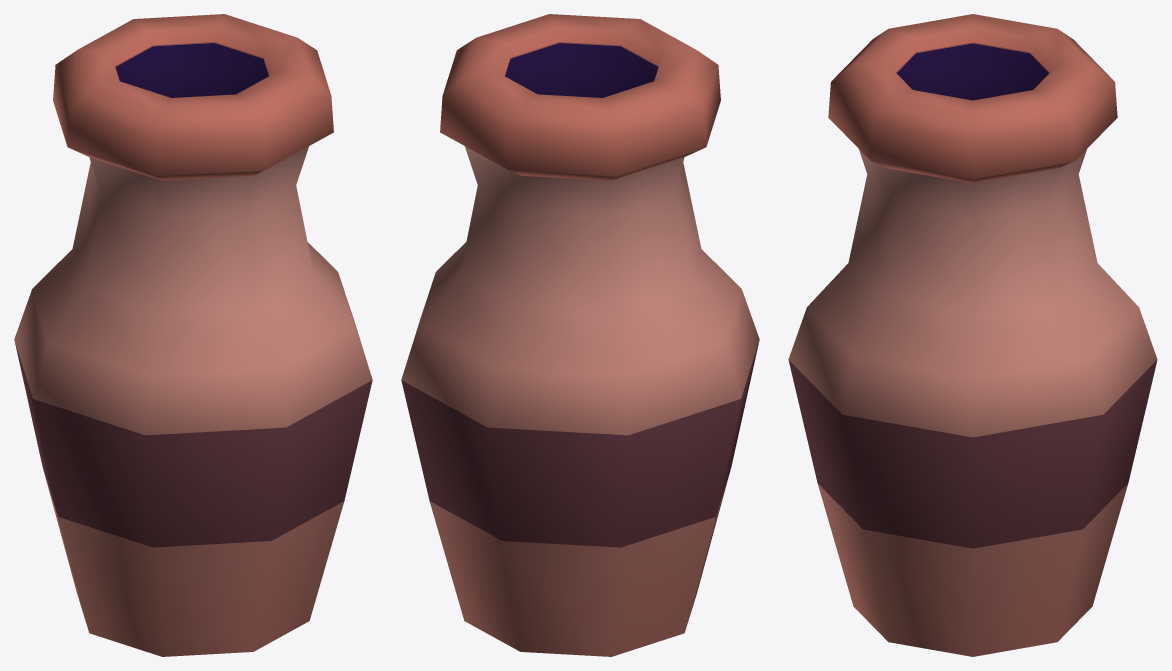
File: Vase17.fbx
3 views of the same model, side by side, from view 1: azimuth 30°, elevation 25°; view 2: azimuth 150°, elevation 25°; view 3: azimuth 270°, elevation 25° (orthographic).
Visible parts, largest first — view 1: Vase17; view 2: Vase17; view 3: Vase17.
Part boxes in pixels (x1,y1,x2,y2): Vase17: (14, 14, 372, 656); Vase17: (401, 14, 759, 656); Vase17: (788, 14, 1157, 656).
Size of the model in its own units: 61.72 by 100 by 61.72.
